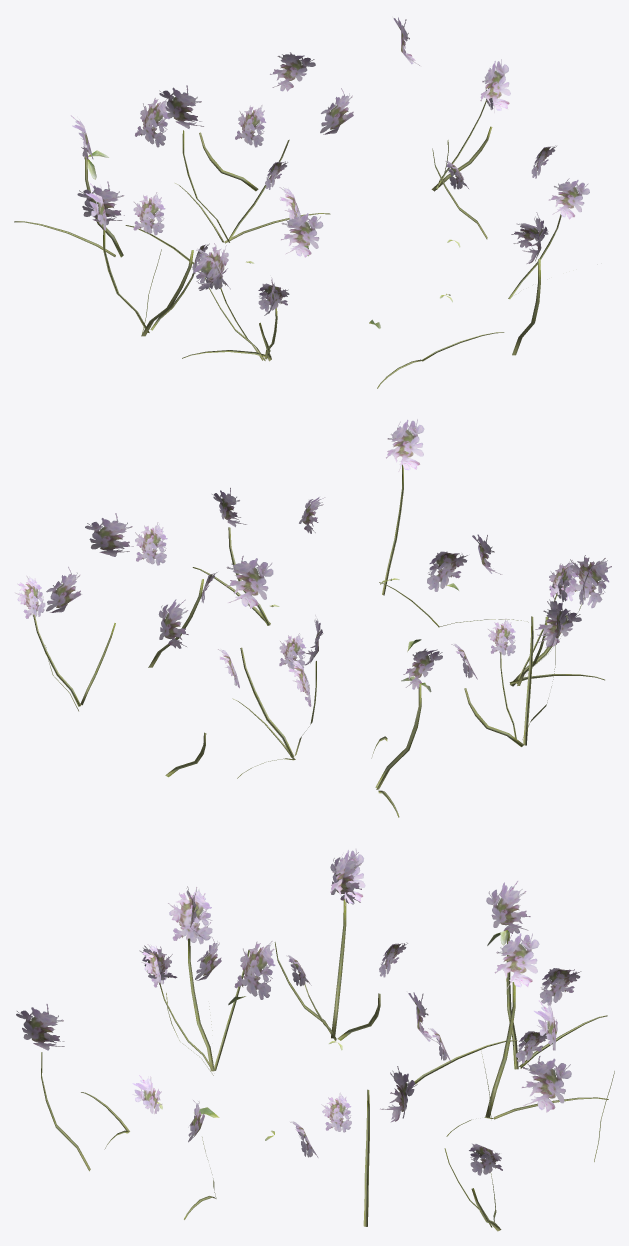
Rendered from flower_pink_lod1.glb.
3 renders of one model, top to bottom at view 1: azimuth 30°, elevation 25°; view 2: azimuth 150°, elevation 25°; view 3: azimuth 270°, elevation 25°, orthographic. The views are drawn at different scales.
Visible parts, largest first — view 1: bq_Flower_Thymus-serpyllum_C_summer; view 2: bq_Flower_Thymus-serpyllum_C_summer; view 3: bq_Flower_Thymus-serpyllum_C_summer.
Part boxes in pixels (x1,y1,x2,y2): bq_Flower_Thymus-serpyllum_C_summer: (14, 17, 589, 388); bq_Flower_Thymus-serpyllum_C_summer: (14, 419, 611, 817); bq_Flower_Thymus-serpyllum_C_summer: (16, 848, 614, 1231).
Size of the model in its own units: 0.2972 by 0.0939 by 0.2948.
2 materials, 2 textured.
